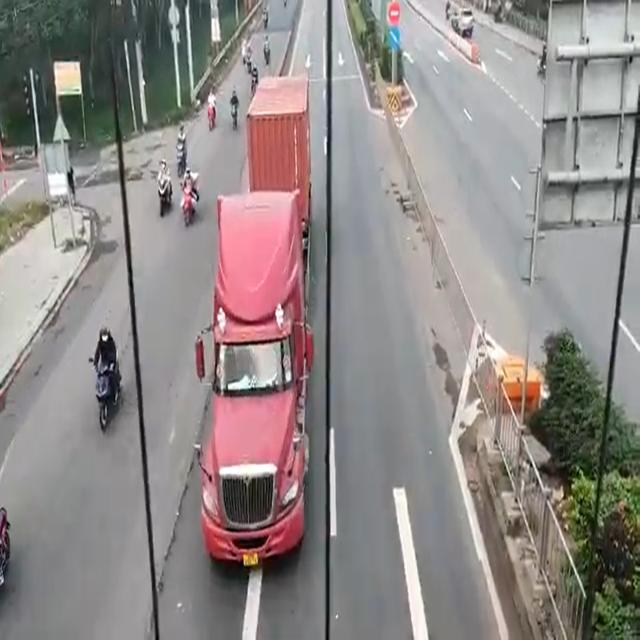motor: (92, 354, 119, 427), (180, 184, 195, 223), (156, 170, 169, 213), (174, 141, 188, 179)
truck: (208, 78, 310, 568)
